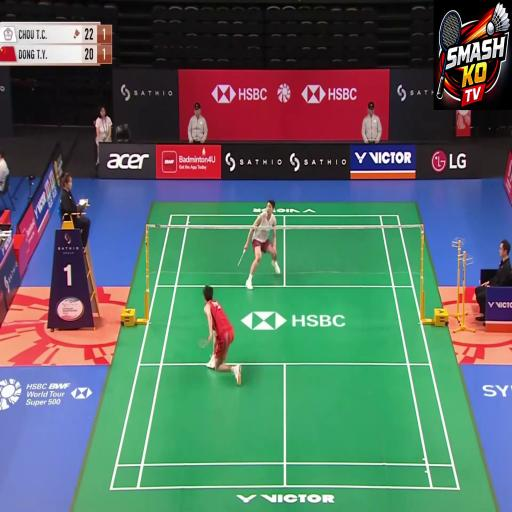player: (190, 283, 256, 426), (242, 186, 288, 302)
